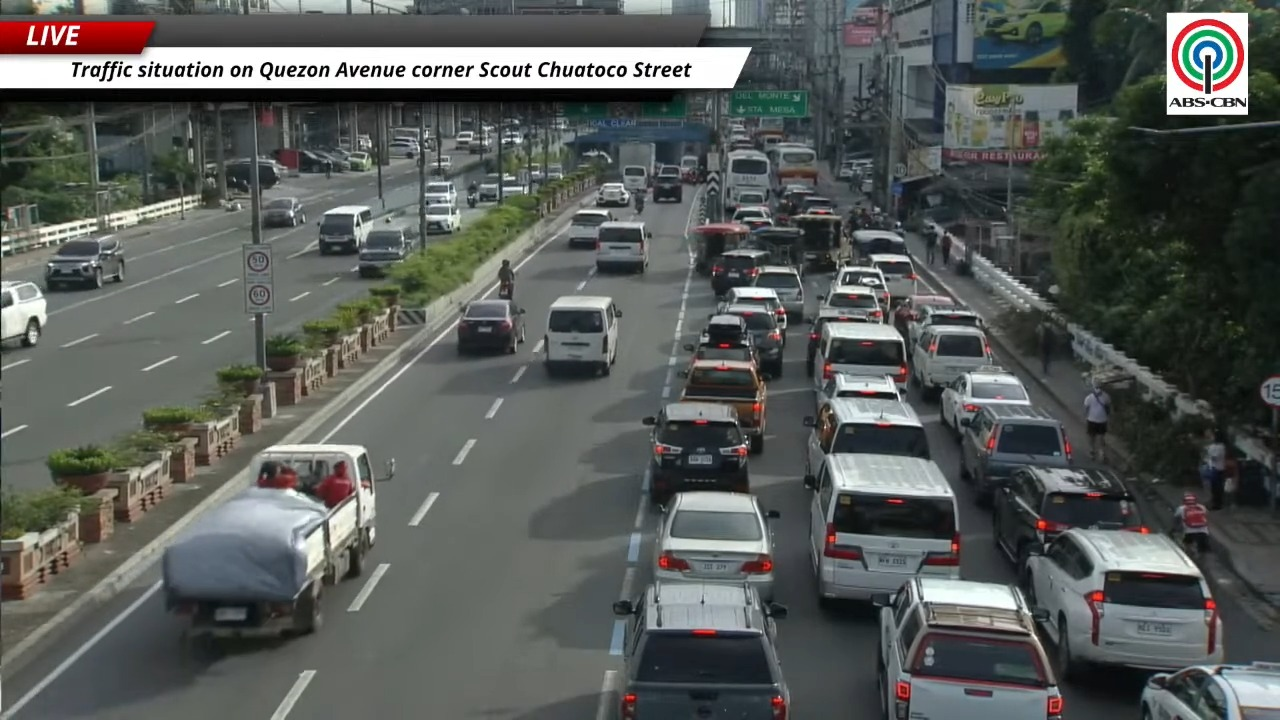bus: (725, 150, 771, 205), (769, 143, 818, 186)
car: (1023, 528, 1223, 679), (873, 578, 1063, 719), (610, 582, 790, 719), (992, 465, 1148, 572), (654, 491, 779, 601), (959, 405, 1072, 504), (643, 402, 749, 506), (804, 397, 930, 474), (1140, 661, 1279, 719), (940, 366, 1031, 434), (911, 325, 993, 398), (719, 304, 783, 377), (44, 236, 125, 291), (684, 314, 757, 370), (719, 285, 787, 345), (806, 308, 864, 376), (982, 0, 1067, 45), (456, 299, 524, 354), (816, 373, 901, 409), (0, 281, 47, 346), (907, 304, 984, 343), (753, 265, 804, 323), (894, 294, 954, 339), (711, 249, 769, 295), (357, 227, 410, 277), (683, 334, 758, 369), (868, 253, 917, 304), (831, 265, 889, 308), (819, 285, 884, 322), (566, 209, 614, 247), (852, 229, 907, 259), (700, 314, 750, 342), (261, 198, 305, 227), (652, 166, 683, 202), (777, 185, 814, 215), (425, 204, 461, 234), (225, 161, 253, 192), (595, 182, 630, 206), (424, 181, 457, 205), (312, 150, 349, 171), (477, 173, 504, 201), (731, 205, 771, 223), (799, 195, 836, 213), (387, 139, 420, 158), (298, 150, 324, 172), (680, 155, 700, 183), (502, 177, 527, 197), (467, 135, 493, 154), (347, 151, 372, 170), (737, 190, 766, 206), (741, 217, 774, 230), (525, 162, 543, 182), (431, 155, 452, 172), (501, 132, 523, 148), (837, 161, 855, 180), (455, 131, 474, 149), (545, 165, 564, 181)
motorcycle: (499, 280, 513, 298), (634, 194, 644, 213), (467, 192, 477, 208)
truck: (162, 444, 394, 641), (680, 359, 767, 453), (616, 143, 656, 190)
